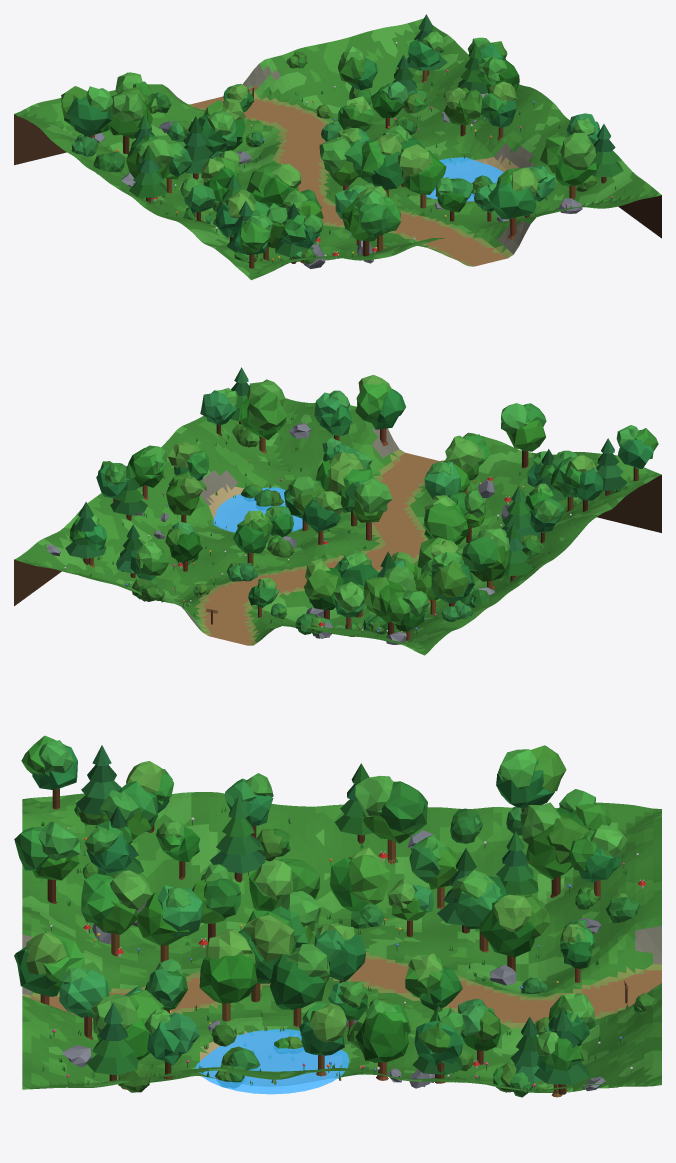
The model's file is loc_green_forest.glb.
3 views of the same model, one above another, from view 1: azimuth 30°, elevation 25°; view 2: azimuth 150°, elevation 25°; view 3: azimuth 270°, elevation 25° (orthographic). The views are drawn at different scales.
Visible parts, largest first — view 1: Props_Env, Terrain, Water; view 2: Props_Env, Terrain, Water; view 3: Props_Env, Terrain, Water.
Boxes of the visible parts, x1,y1,x2,y2 form: Props_Env: (61, 14, 624, 268); Terrain: (14, 18, 661, 280); Water: (426, 157, 503, 201); Props_Env: (46, 367, 658, 644); Terrain: (14, 398, 661, 655); Water: (212, 487, 302, 535); Props_Env: (14, 735, 657, 1097); Terrain: (22, 792, 661, 1092); Water: (195, 1029, 349, 1094).
Size of the model in its own units: 36.34 by 9.29 by 36.47.
